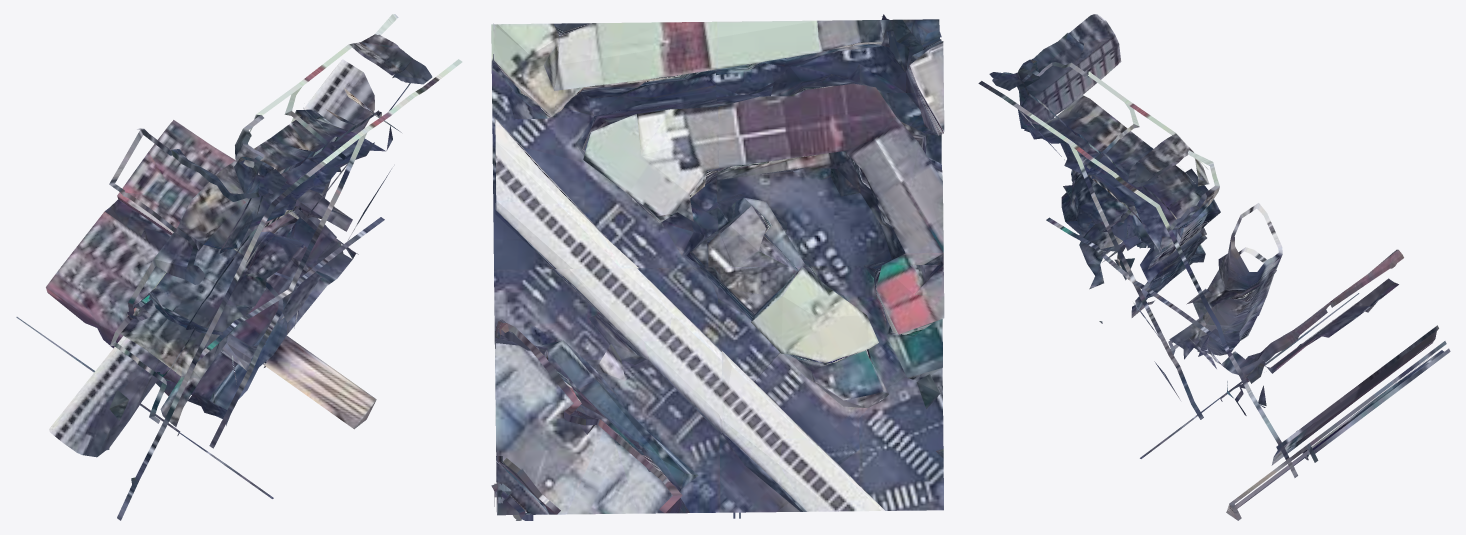
3 views of the same model, side by side, from view 1: azimuth 30°, elevation 25°; view 2: azimuth 150°, elevation 25°; view 3: azimuth 270°, elevation 25° (orthographic). The views are drawn at different scales.
Size of the model in its own units: 77.83 by 84.18 by 95.95.
2 materials, 2 textured.
